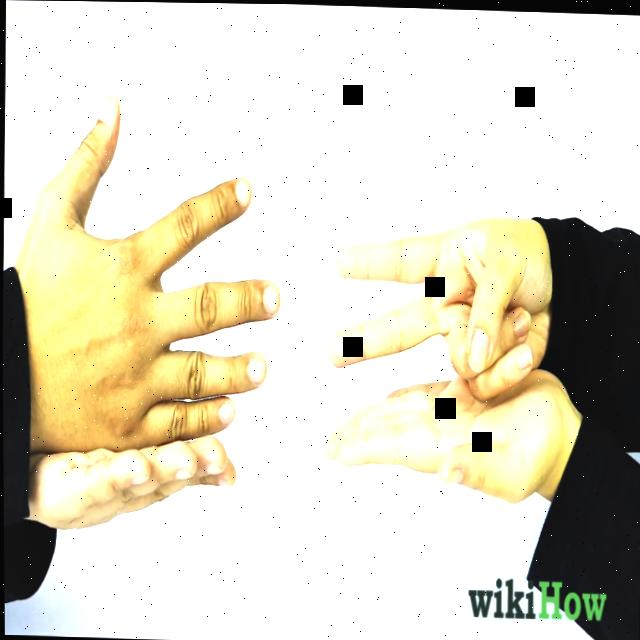Paper: (14, 87, 285, 458)
Scissors: (324, 213, 554, 400)
